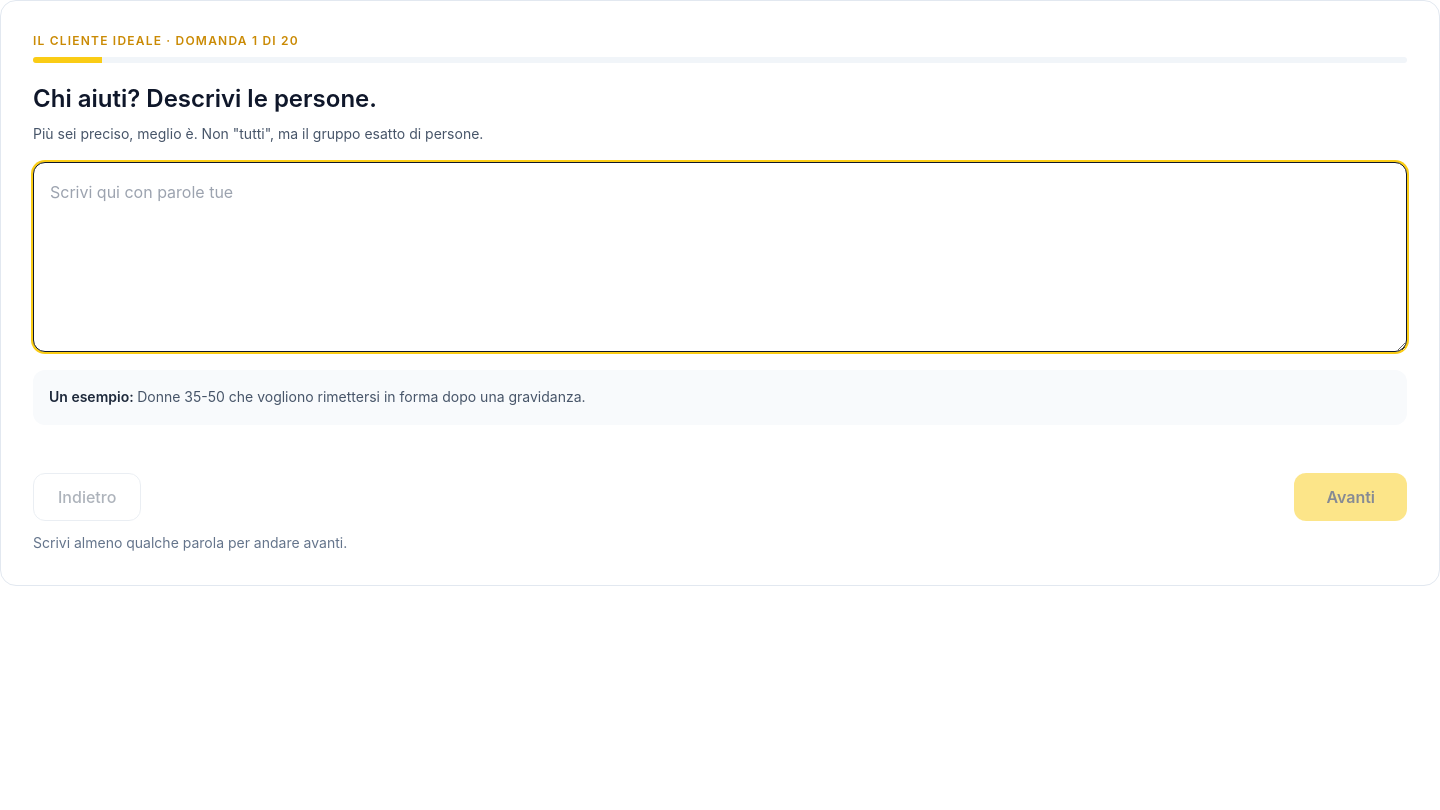
Test: se il salvataggio fallisce lo dice e non cambia domanda
Check: the heading "Chi aiuti? Descrivi le persone." is shown, box [33,84,377,113]
Type "Donne dopo i quaranta anni" into the text box. click: {"x": 720, "y": 257}
box: [33,162,1407,352]
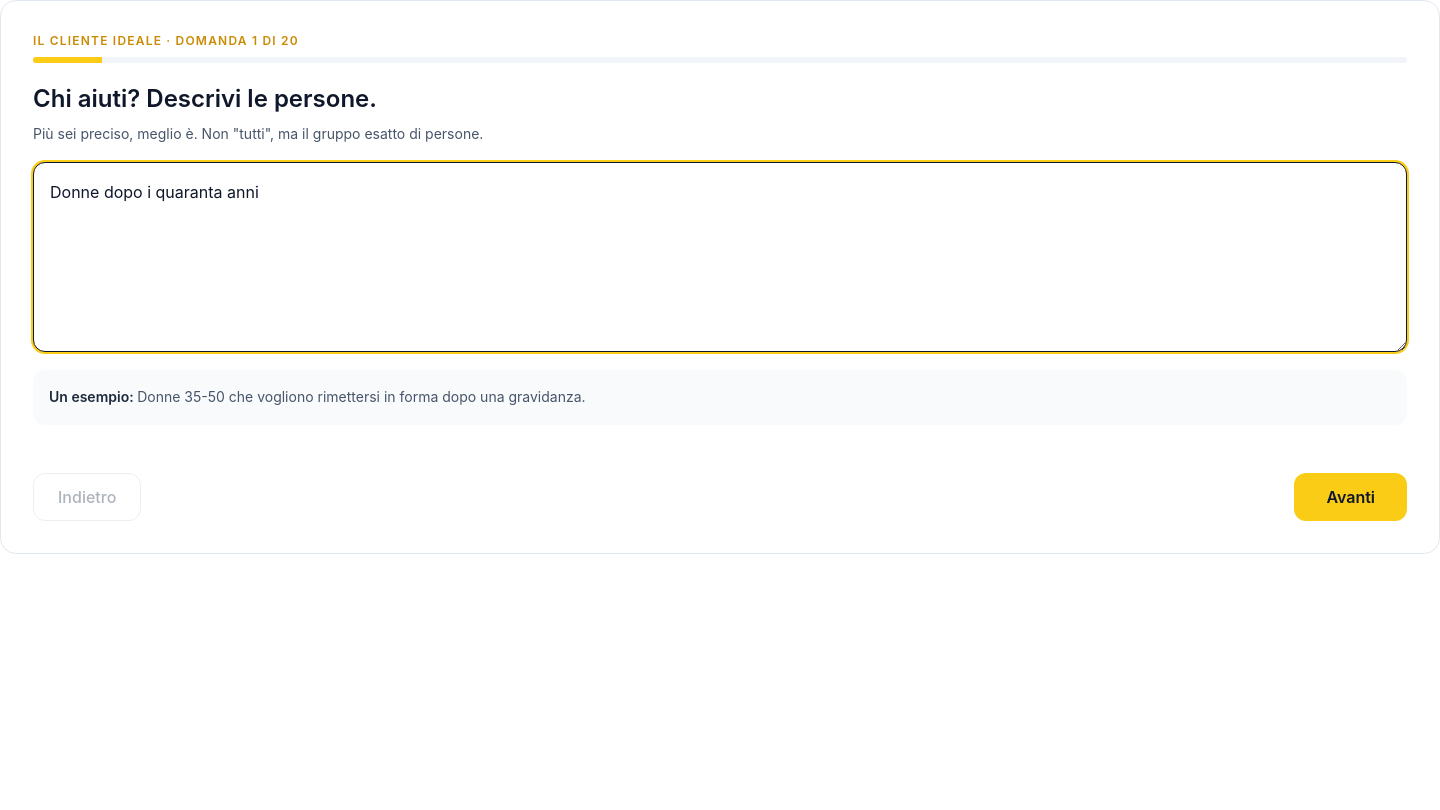
Click the button "Avanti". click: {"x": 1351, "y": 496}
box: [1294,472,1407,520]
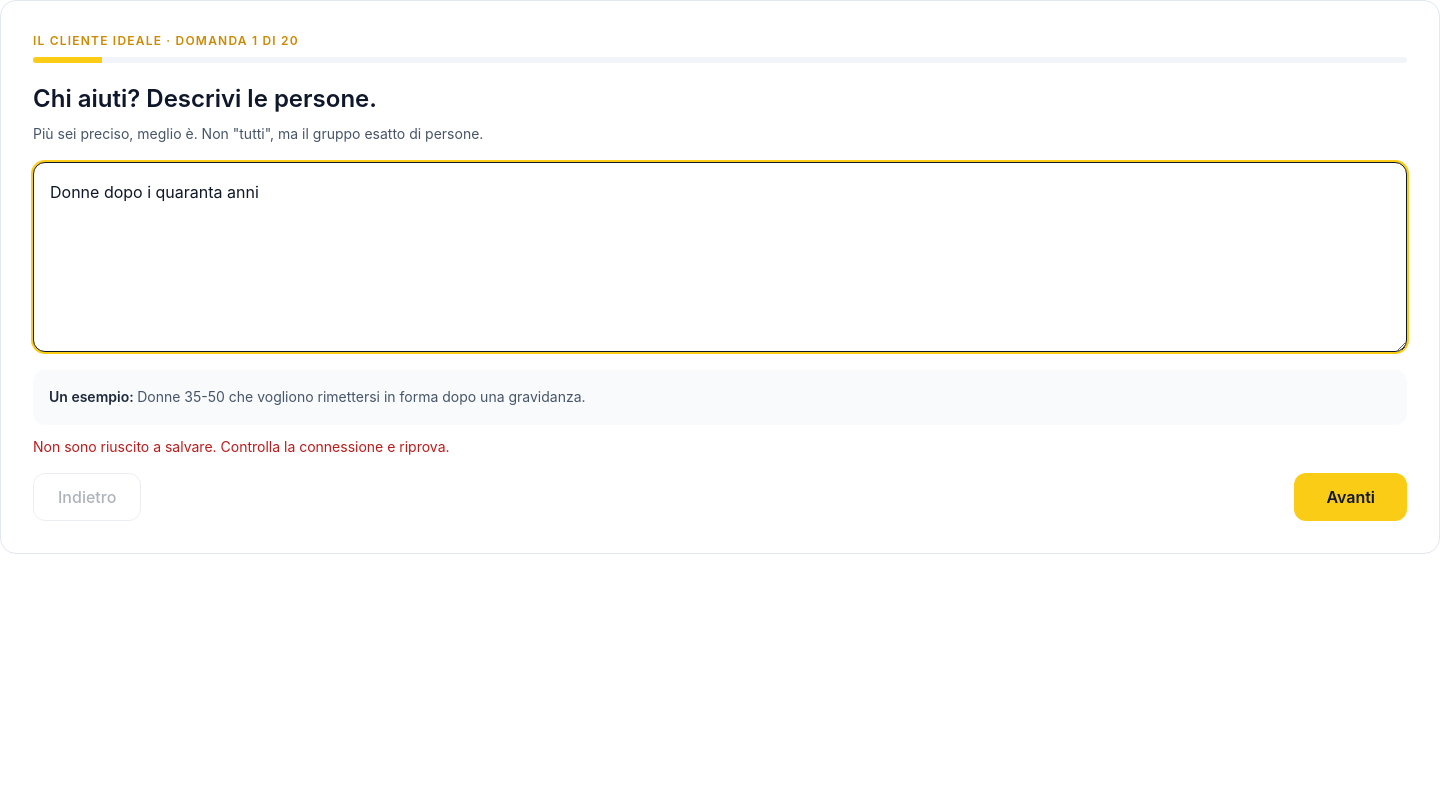
Check: the heading "Chi aiuti? Descrivi le persone." is shown, box [33,84,377,113]
Check: the text "Non sono riuscito a salvare" is shown, box [33,438,450,454]
